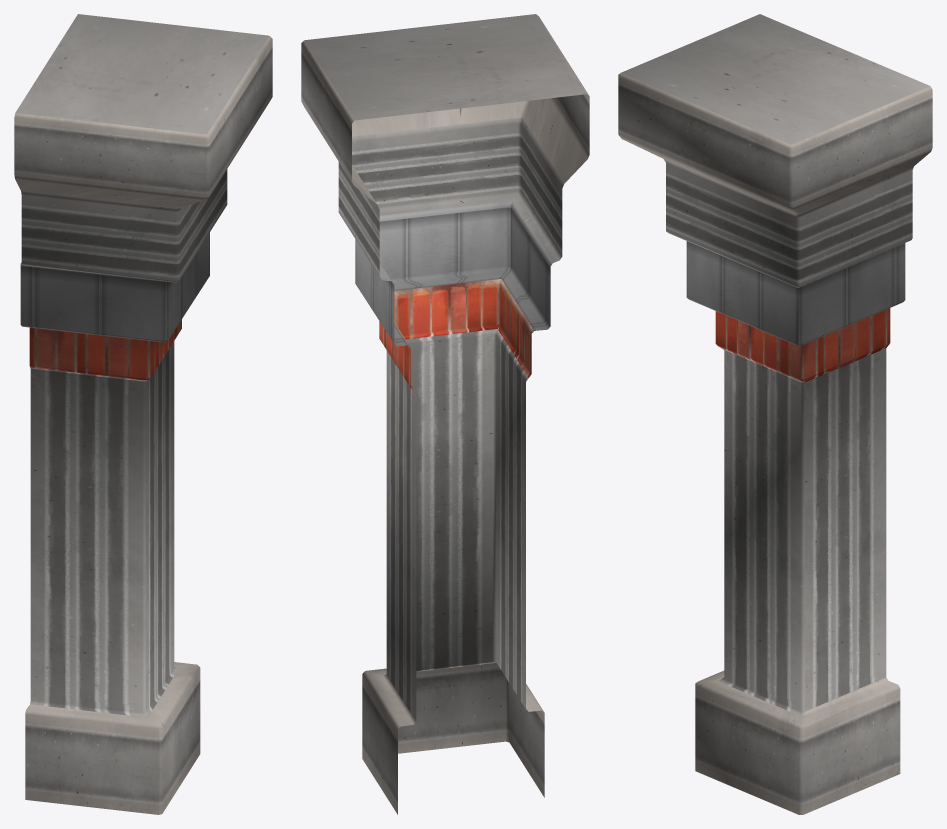
File: SM_Corner_02.fbx
The picture shows the model from 3 angles, left to right: view 1: azimuth 30°, elevation 25°; view 2: azimuth 150°, elevation 25°; view 3: azimuth 270°, elevation 25°; orthographic projection.
Parts seen in each view (by area): view 1: SM_Corner_02; view 2: SM_Corner_02; view 3: SM_Corner_02.
Boxes of the visible parts, bbox=[...] form: SM_Corner_02: bbox=[14, 14, 272, 814]; SM_Corner_02: bbox=[301, 14, 589, 814]; SM_Corner_02: bbox=[618, 14, 932, 814].
Size of the model in its own units: 221 by 221 by 545.
